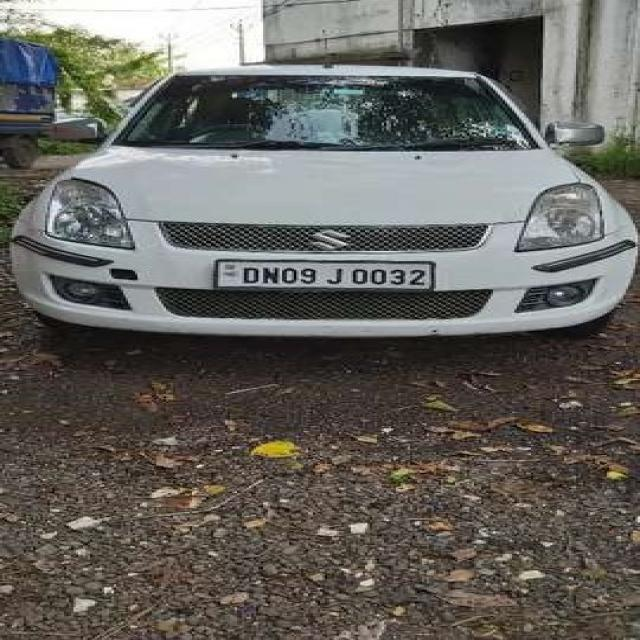Plate: (214, 261, 430, 289)
